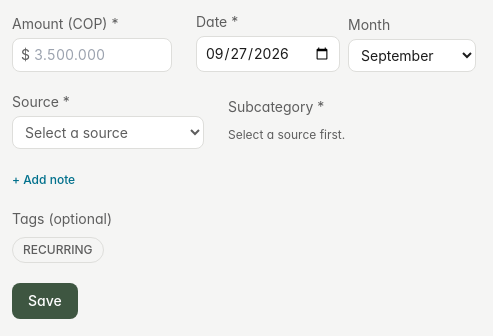
DirectIncomeForm › envia monto con decimales, tags y nota
Type "3500000,5" into the field labelled "Amount (COP) * $" at (98, 55), box [34,45,163,65]
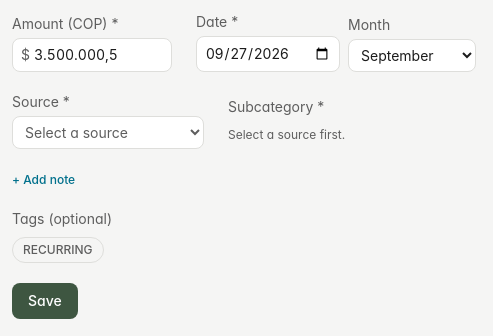
Expected: the field labelled "Amount (COP) * $" holds "3.500.000,5", [34,45,163,65]
Select "Salario" in the dropdown with test id "direct-source" at (108, 132), box [12,116,204,149]
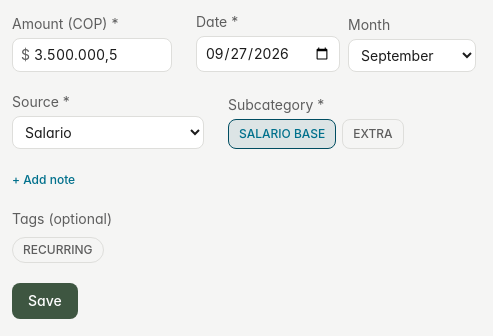
Click the button with test id "tag-9" at (58, 250), box [12,237,104,263]
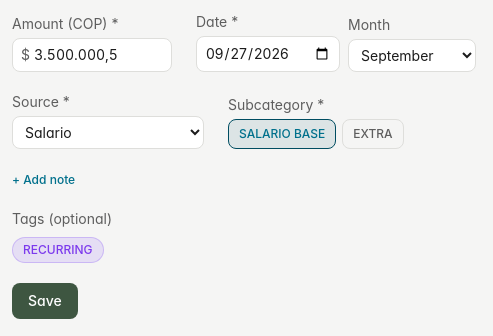
Submit the form
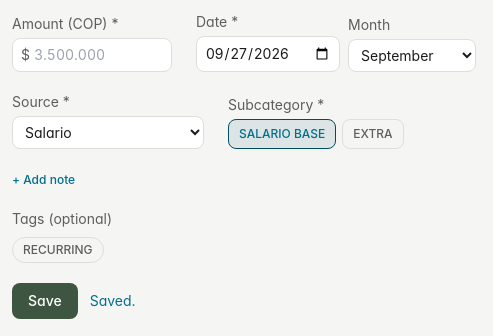
Expected: the form shows "Saved.", [90,292,136,309]
